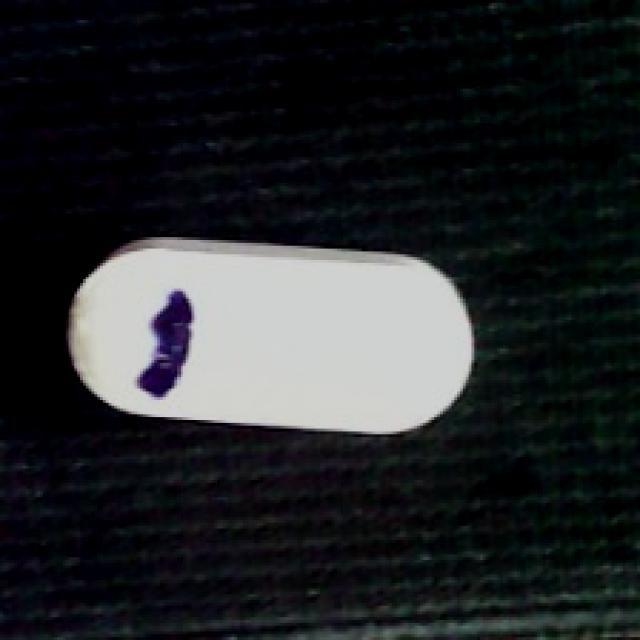defected: (60, 232, 480, 437)
